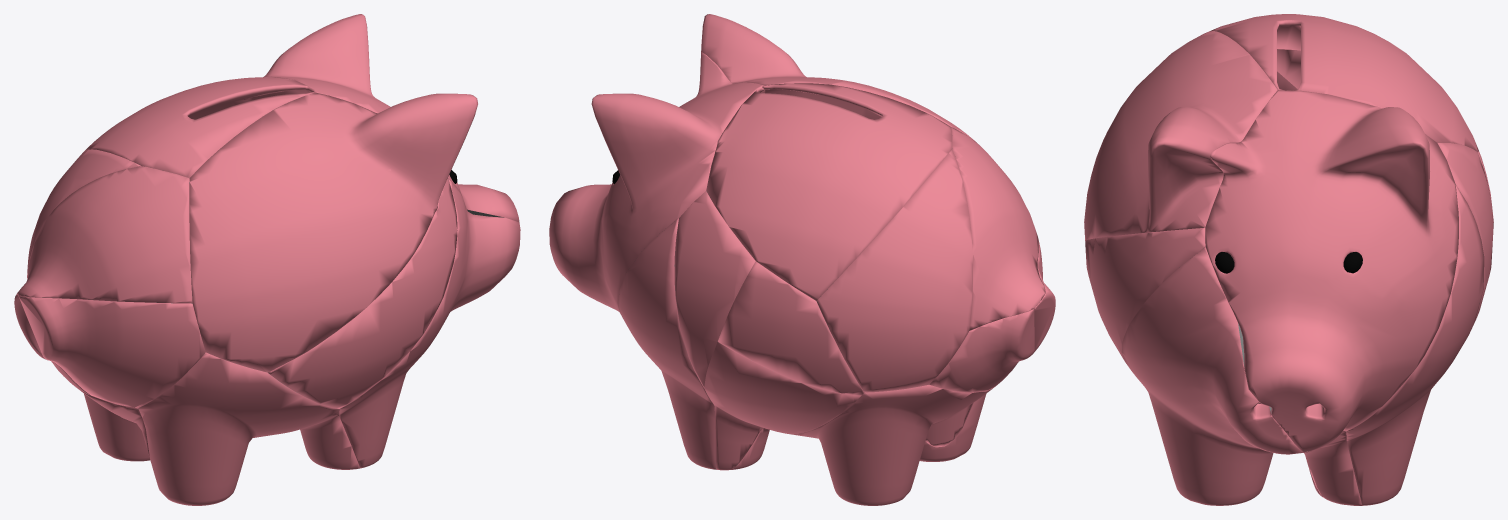
Rendered from piggy_fractured.fbx.
The picture shows the model from 3 angles, left to right: view 1: azimuth 30°, elevation 25°; view 2: azimuth 150°, elevation 25°; view 3: azimuth 270°, elevation 25°; orthographic projection. The views are drawn at different scales.
Parts seen in each view (by area): view 1: Pig_body_cell.003, Pig_body_cell.008, Pig_body_cell, Pig_body_cell.013, Pig_body_cell.014, Pig_body_cell.011, Pig_body_cell.006, Pig_body_cell.012, Pig_body_cell.009, Pig_body_cell.001, Pig_body_cell.005; view 2: Pig_body_cell.011, Pig_body_cell.001, Pig_body_cell.012, Pig_body_cell.009, Pig_body_cell.008, Pig_body_cell.002, Pig_body_cell.004, Pig_body_cell.010, Pig_body_cell.007, Pig_body_cell.003, Pig_body_cell.005, Pig_body_cell (+1 smaller); view 3: Pig_body_cell.012, Pig_body_cell.006, Pig_body_cell.003, Pig_body_cell.011, Pig_body_cell.004, Pig_body_cell.014, Pig_body_cell.007, Pig_body_cell.001.
Boxes of the visible parts, x1,y1,x2,y2 form: Pig_body_cell.003: (189,92,477,372); Pig_body_cell.008: (17,166,192,303); Pig_body_cell: (138,352,359,505); Pig_body_cell.013: (18,295,205,407); Pig_body_cell.014: (268,178,457,408); Pig_body_cell.011: (85,76,314,178); Pig_body_cell.006: (339,178,520,468); Pig_body_cell.012: (247,14,519,221); Pig_body_cell.009: (77,388,149,461); Pig_body_cell.001: (27,149,140,277); Pig_body_cell.005: (14,294,90,395); Pig_body_cell.011: (706,83,952,300); Pig_body_cell.001: (816,149,972,392); Pig_body_cell.012: (549,52,764,316); Pig_body_cell.009: (789,384,992,505); Pig_body_cell.008: (951,127,1045,330); Pig_body_cell.002: (718,261,864,395); Pig_body_cell.004: (618,218,716,469); Pig_body_cell.010: (704,341,860,470); Pig_body_cell.007: (674,191,755,387); Pig_body_cell.003: (701,14,975,141); Pig_body_cell.005: (929,309,1034,392); Pig_body_cell: (731,394,986,469); Pig_body_cell.012: (1205,90,1458,452); Pig_body_cell.006: (1122,247,1361,505); Pig_body_cell.003: (1084,31,1277,240); Pig_body_cell.011: (1209,14,1478,151); Pig_body_cell.004: (1346,185,1484,505); Pig_body_cell.014: (1085,227,1205,362); Pig_body_cell.007: (1437,143,1493,335); Pig_body_cell.001: (1277,49,1300,89).
Bounding box in the file's own units: 546 × 387 × 352.
